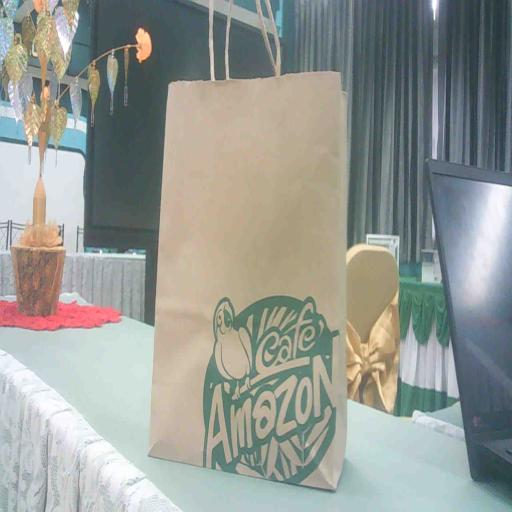bag: (139, 58, 353, 496)
